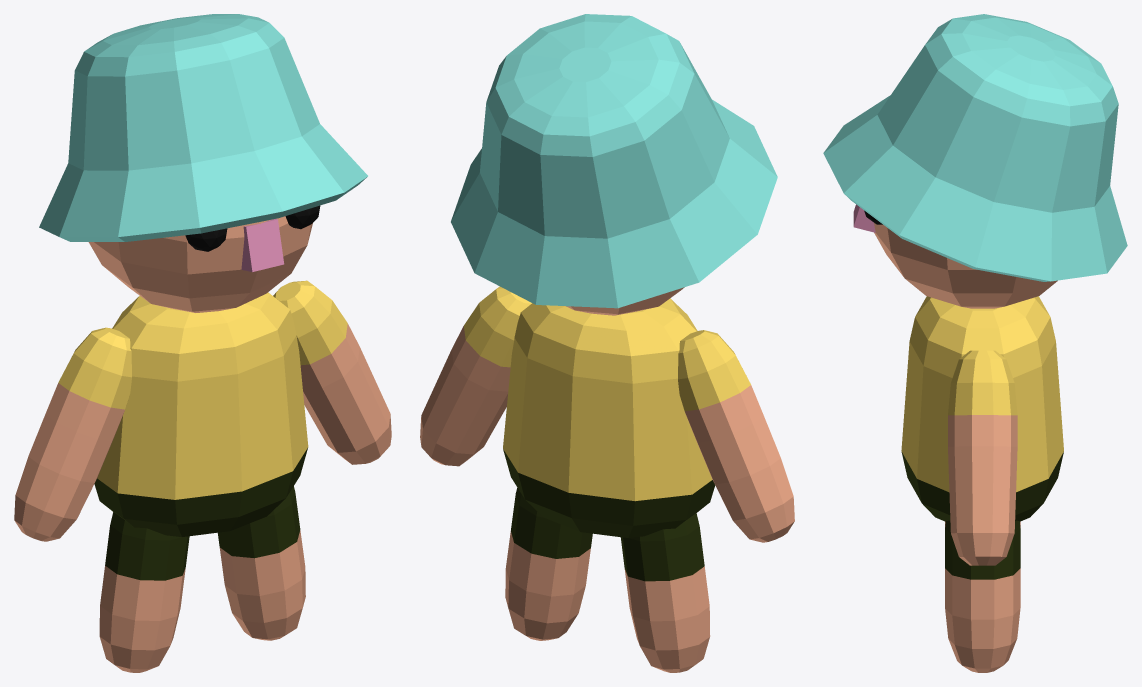
The model's file is newPlayerIdea3.fbx.
3 renders of one model, left to right at view 1: azimuth 30°, elevation 25°; view 2: azimuth 150°, elevation 25°; view 3: azimuth 270°, elevation 25°, orthographic. The views are drawn at different scales.
Visible parts, largest first — view 1: Cylinder.005, Cylinder, Cylinder.002, Cylinder.001, Sphere, Cylinder.003, Cylinder.004, Cube, Icosphere; view 2: Cylinder.005, Cylinder, Cylinder.002, Cylinder.001, Cylinder.003, Cylinder.004, Sphere; view 3: Cylinder.005, Cylinder, Cylinder.001, Cylinder.004, Sphere.
Part boxes in pixels (x1,y1,x2,y2): Cylinder.005: (39, 14, 367, 241); Cylinder: (94, 292, 308, 536); Cylinder.002: (14, 327, 131, 541); Cylinder.001: (273, 280, 391, 464); Sphere: (88, 216, 312, 312); Cylinder.003: (99, 512, 189, 672); Cylinder.004: (217, 486, 305, 640); Cube: (241, 219, 284, 271); Icosphere: (185, 228, 227, 251); Cylinder.005: (451, 14, 777, 308); Cylinder: (503, 298, 715, 537); Cylinder.002: (678, 330, 794, 542); Cylinder.001: (420, 286, 531, 466); Cylinder.003: (620, 513, 710, 672); Cylinder.004: (505, 488, 592, 640); Sphere: (565, 287, 684, 315); Cylinder.005: (823, 14, 1127, 281); Cylinder: (901, 296, 1063, 521); Cylinder.001: (948, 350, 1017, 565); Cylinder.004: (945, 520, 1020, 672); Sphere: (874, 223, 1057, 308).
Bounding box in the file's own units: 410 × 664 × 304.
